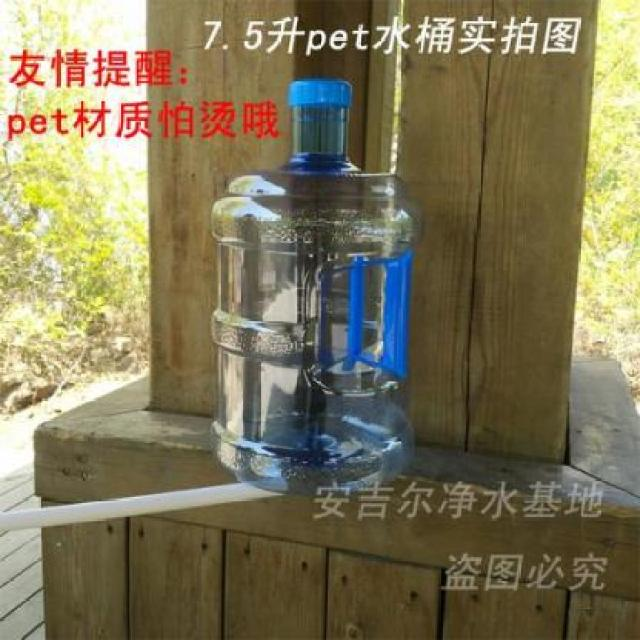coolerbottle: (207, 79, 426, 503)
